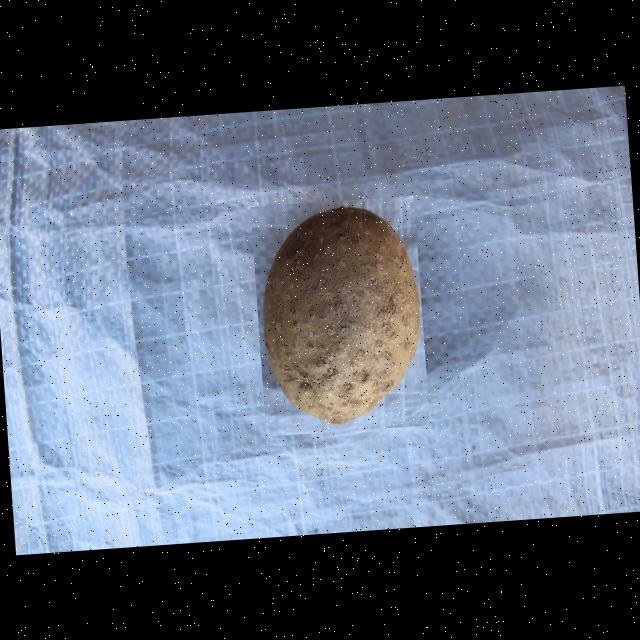Diseased-fungal potato: (250, 195, 430, 436)
